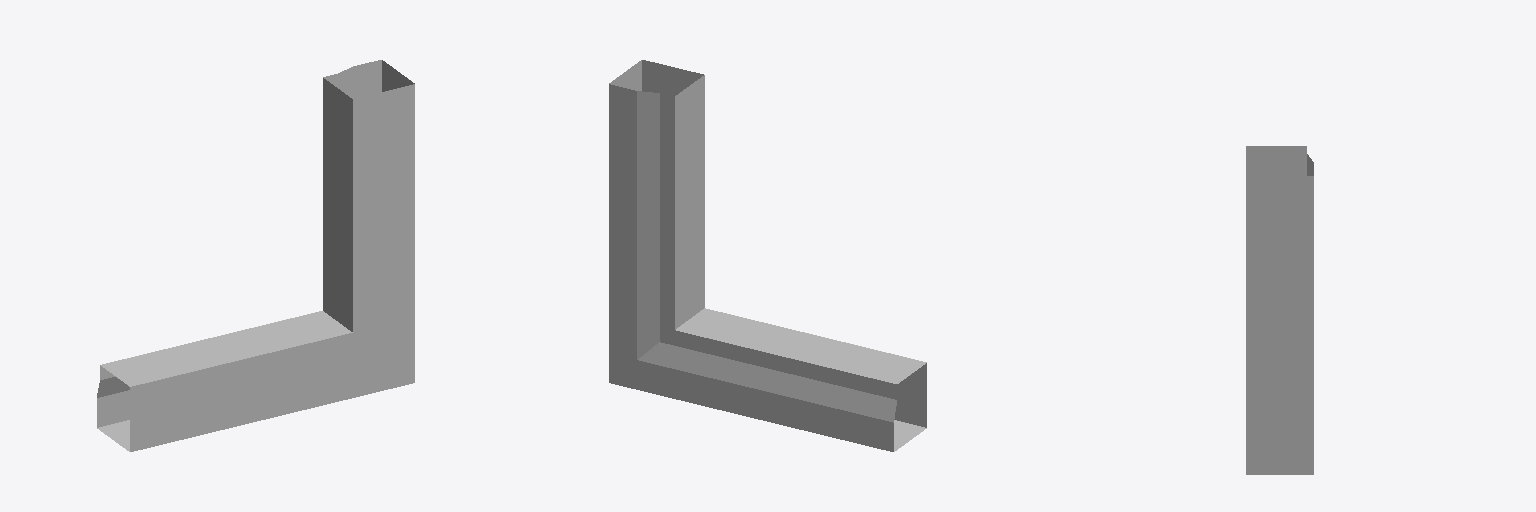
Rendered from original-8.obj.
3 renders of one model, left to right at view 1: azimuth 30°, elevation 25°; view 2: azimuth 150°, elevation 25°; view 3: azimuth 270°, elevation 25°, orthographic.
Visible parts, largest first — view 1: BMTR/BMTR_4/ID59#ID59; view 2: BMTR/BMTR_4/ID59#ID59; view 3: BMTR/BMTR_4/ID59#ID59.
Part boxes in pixels (bbox=[...]): BMTR/BMTR_4/ID59#ID59: bbox=[97, 60, 414, 451]; BMTR/BMTR_4/ID59#ID59: bbox=[609, 60, 926, 451]; BMTR/BMTR_4/ID59#ID59: bbox=[1246, 146, 1313, 474].
Size of the model in its own units: 0.1274 by 0.1275 by 0.0259.